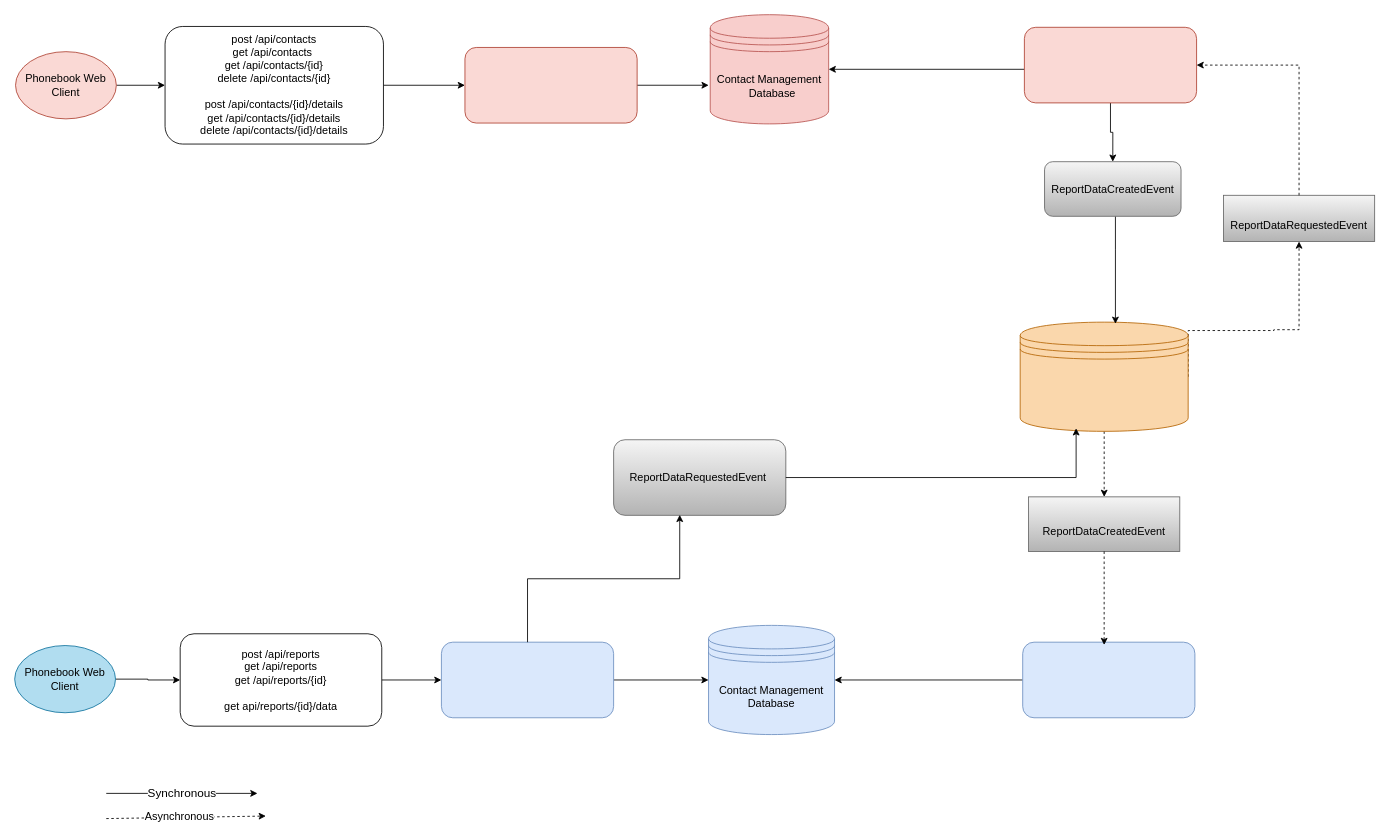
Some shapes in this 1389 by 840 pixel diagram are drawn without their labels. Here are the shapes that lost their labels. From the top down, the centre of each, then its label:
the point at 1110,64: Contact Managment Messaging Service
the point at 550,85: Contact Management Api
the point at 1103,376: RabbitMQ Message Queues
the point at 527,679: Report Management Api
the point at 1108,679: Report Management Messaging Service
